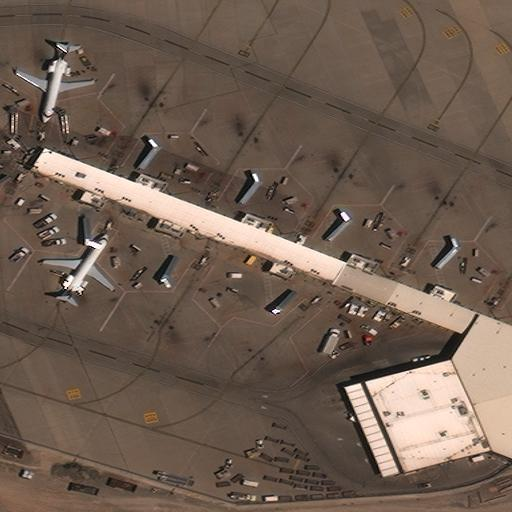Medium Civil Transport: (15, 44, 94, 123), (43, 233, 114, 302)
